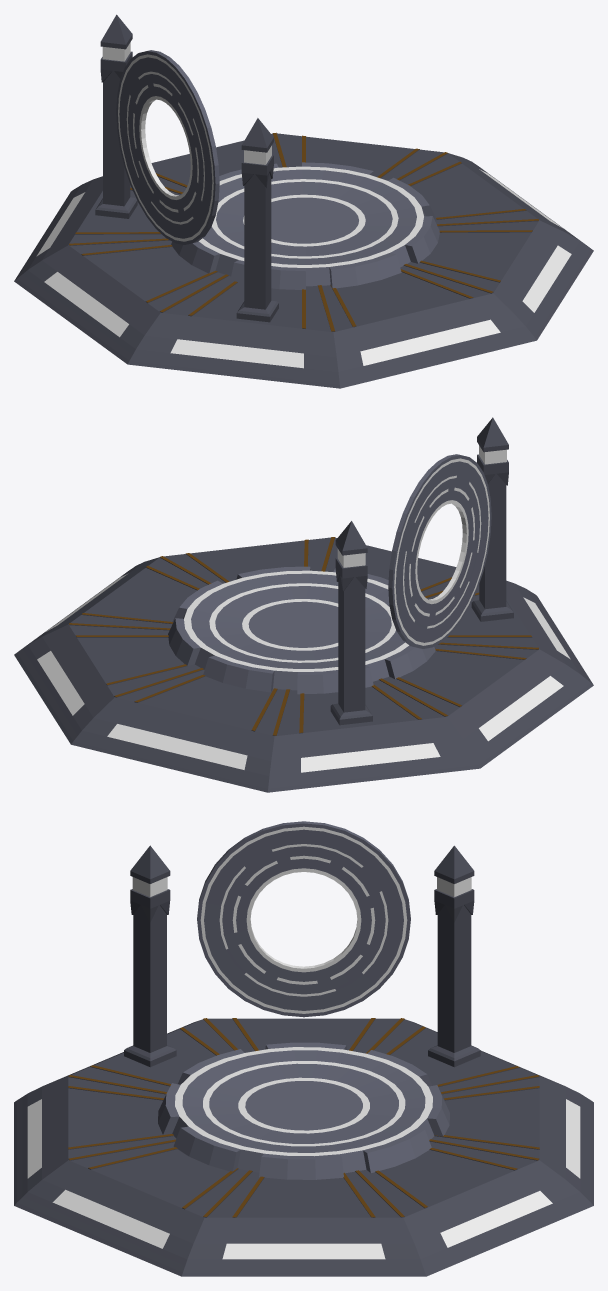
Rendered from Portal.fbx.
The picture shows the model from 3 angles, top to bottom: view 1: azimuth 30°, elevation 25°; view 2: azimuth 150°, elevation 25°; view 3: azimuth 270°, elevation 25°; orthographic projection. The views are drawn at different scales.
Visible parts, largest first — view 1: Куб, Окружность, Окружность.001, Куб.002, Куб.001; view 2: Куб, Окружность, Окружность.001, Куб.001, Куб.002; view 3: Куб, Окружность, Окружность.001, Куб.001, Куб.002.
Part boxes in pixels (left/top/right/bottom): Куб: left=14, top=132, right=593, bottom=388; Окружность: left=171, top=162, right=439, bottom=289; Окружность.001: left=116, top=50, right=219, bottom=244; Куб.002: left=236, top=118, right=278, bottom=322; Куб.001: left=95, top=14, right=137, bottom=218; Куб: left=14, top=537, right=593, bottom=792; Окружность: left=168, top=566, right=435, bottom=694; Окружность.001: left=388, top=454, right=491, bottom=648; Куб.001: left=330, top=521, right=372, bottom=725; Куб.002: left=471, top=417, right=513, bottom=621; Куб: left=14, top=1018, right=593, bottom=1276; Окружность: left=158, top=1042, right=449, bottom=1179; Окружность.001: left=197, top=821, right=410, bottom=1017; Куб.001: left=428, top=845, right=480, bottom=1067; Куб.002: left=124, top=845, right=176, bottom=1067.
Bounding box in the file's own units: 953 × 472 × 953.
